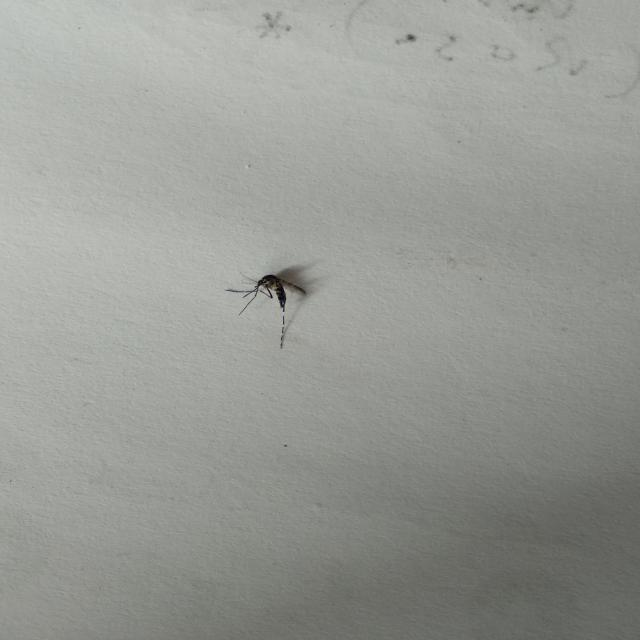albopictus: (220, 261, 309, 354)
